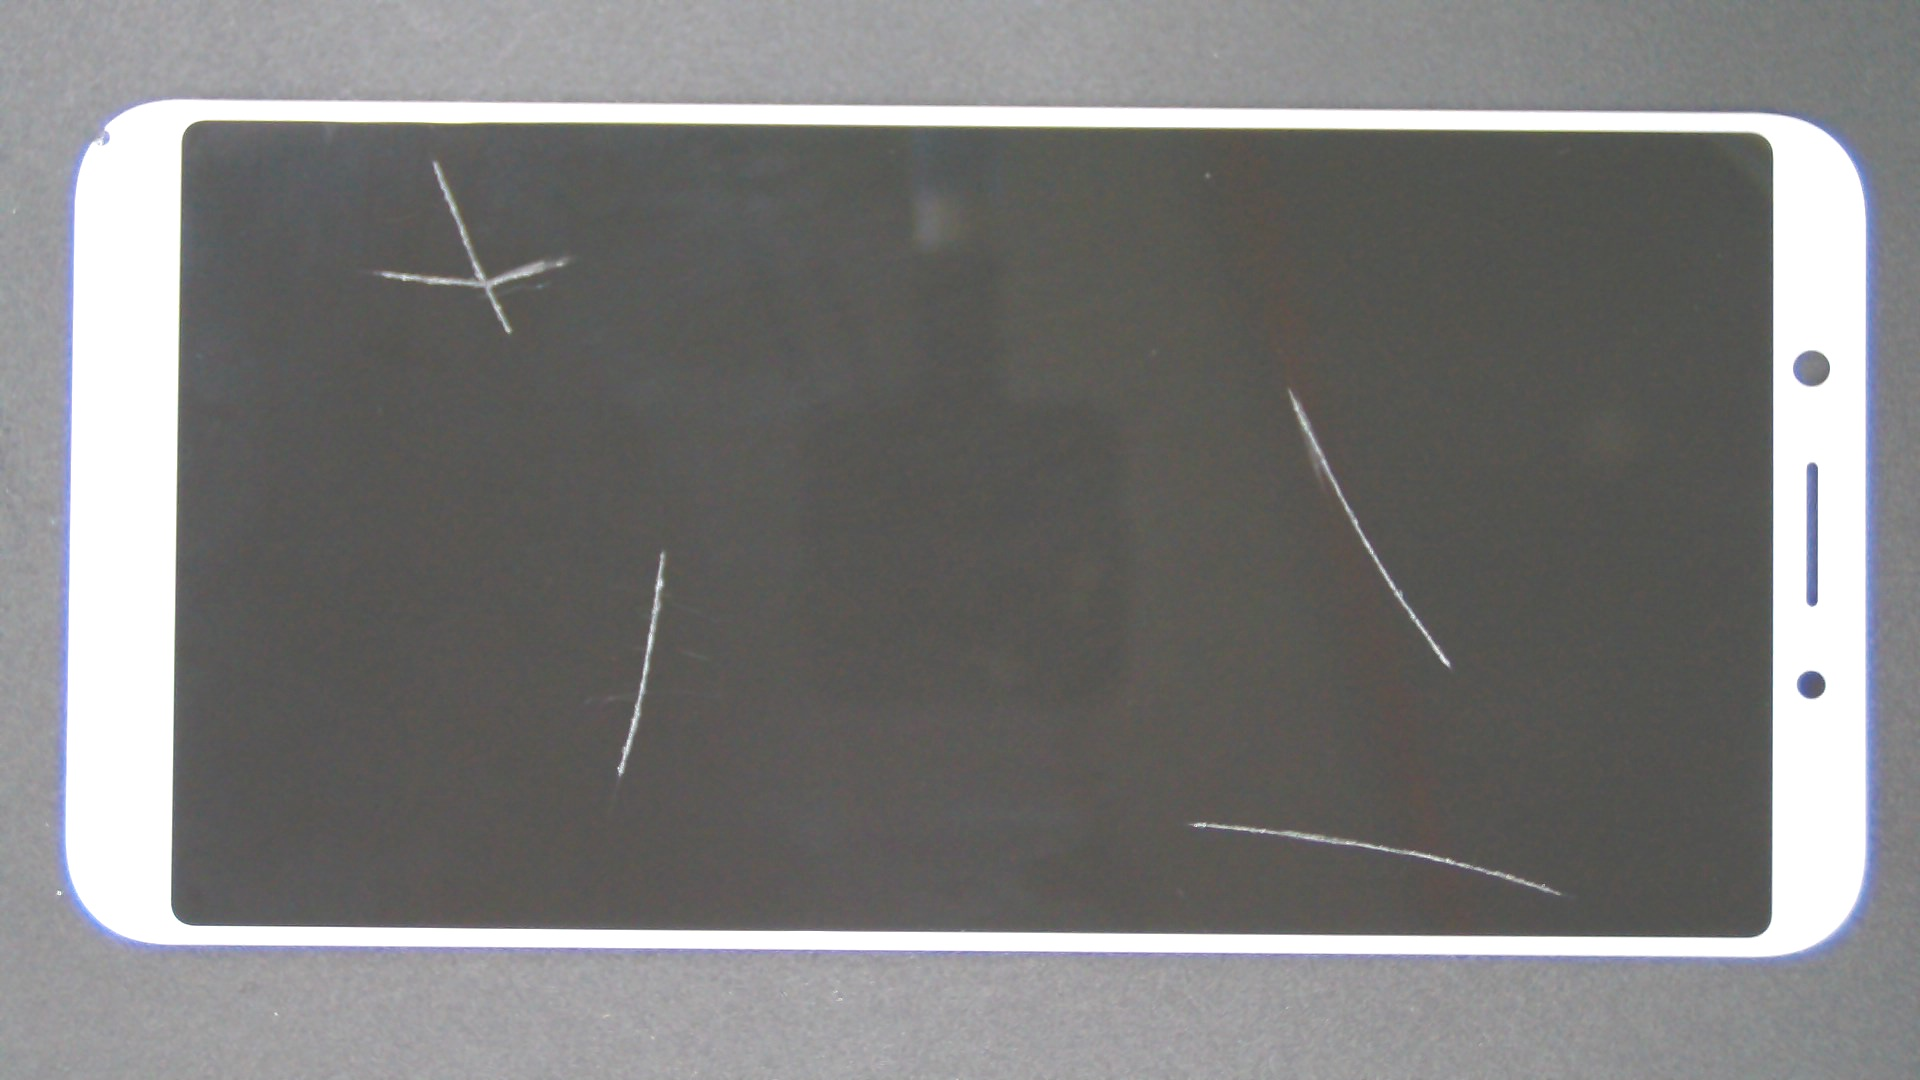oil: (599, 410, 1795, 1080), (644, 193, 1920, 582), (331, 274, 993, 825), (218, 79, 651, 239)
